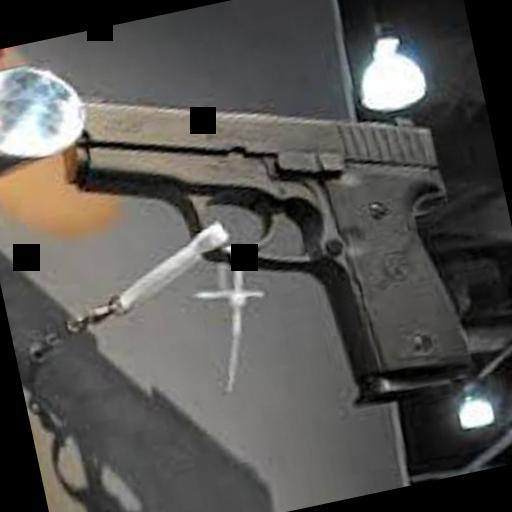Handgun: (33, 10, 482, 450)
